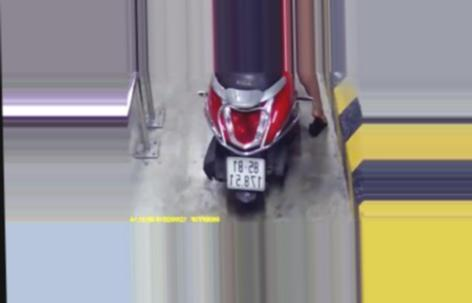License_Plate: (221, 155, 268, 193)
